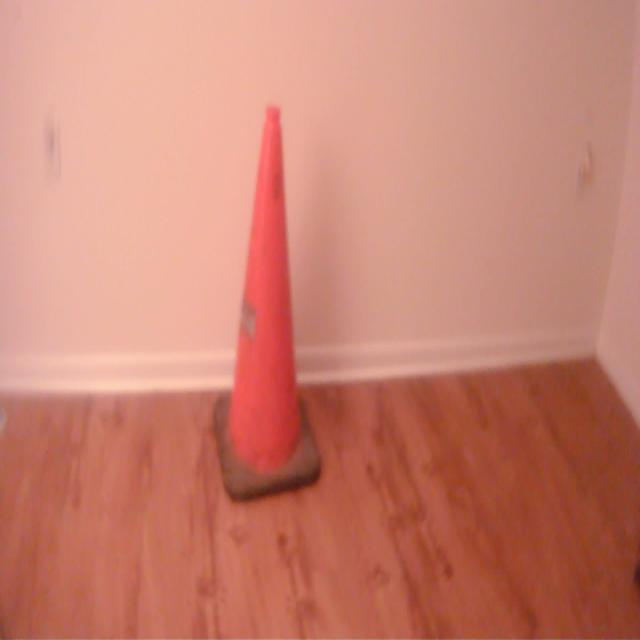traffic cone: (210, 99, 326, 512)
